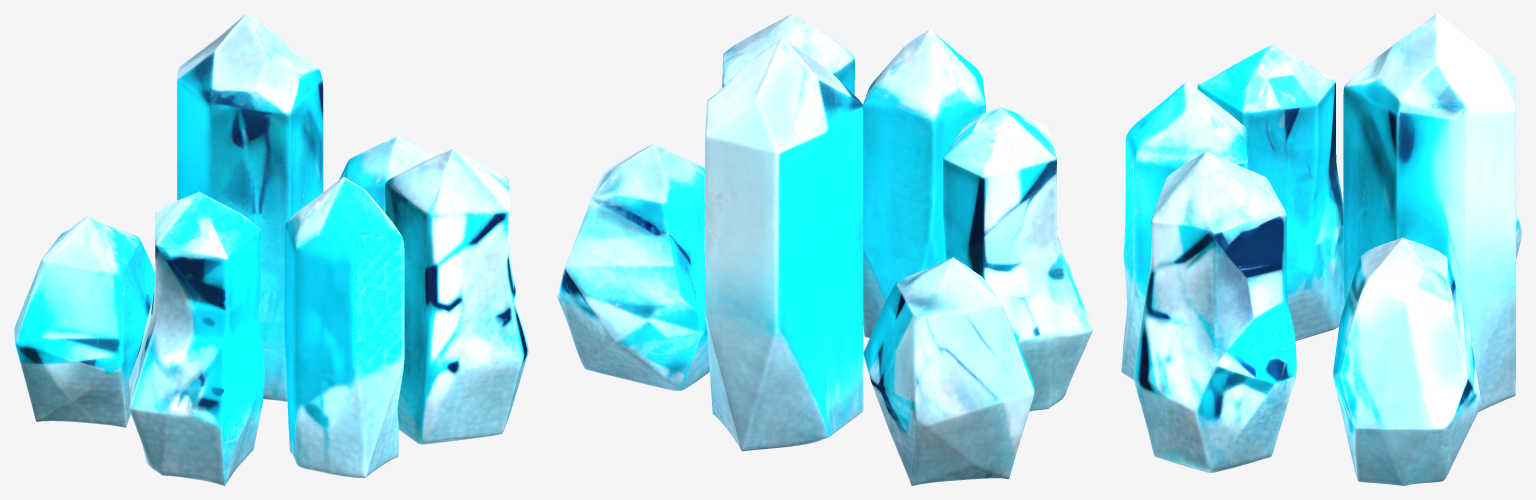
File: ice-crystal.glb
3 views of the same model, side by side, from view 1: azimuth 30°, elevation 25°; view 2: azimuth 150°, elevation 25°; view 3: azimuth 270°, elevation 25° (orthographic). The views are drawn at different scales.
Bounding box in the file's own units: 1.9 × 1.46 × 1.39.
1 material, 1 textured.
